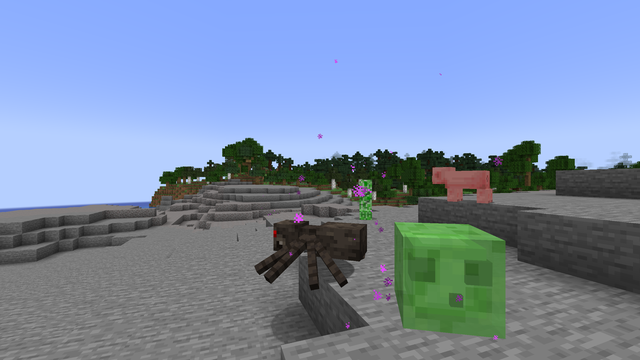araignees: (268, 212, 364, 287)
cochons: (442, 169, 492, 202)
creepers: (355, 178, 374, 219)
slimes: (380, 218, 511, 343)
